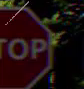Stop: (0, 5, 55, 88)
